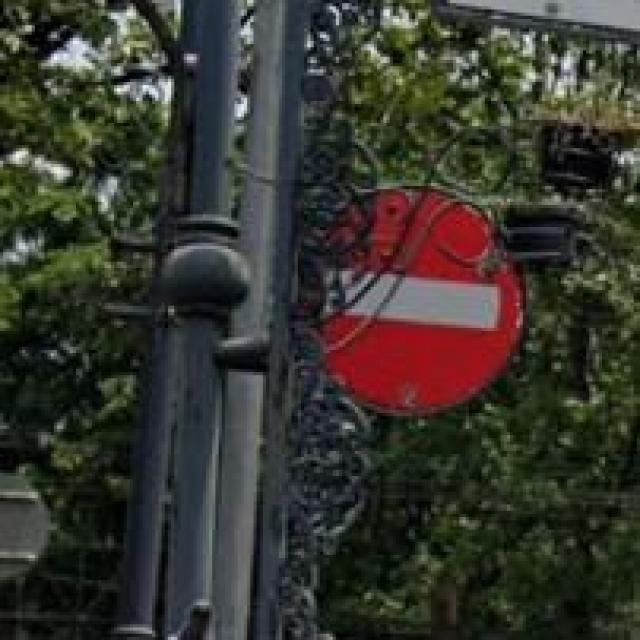traffic sign: (329, 192, 522, 410)
